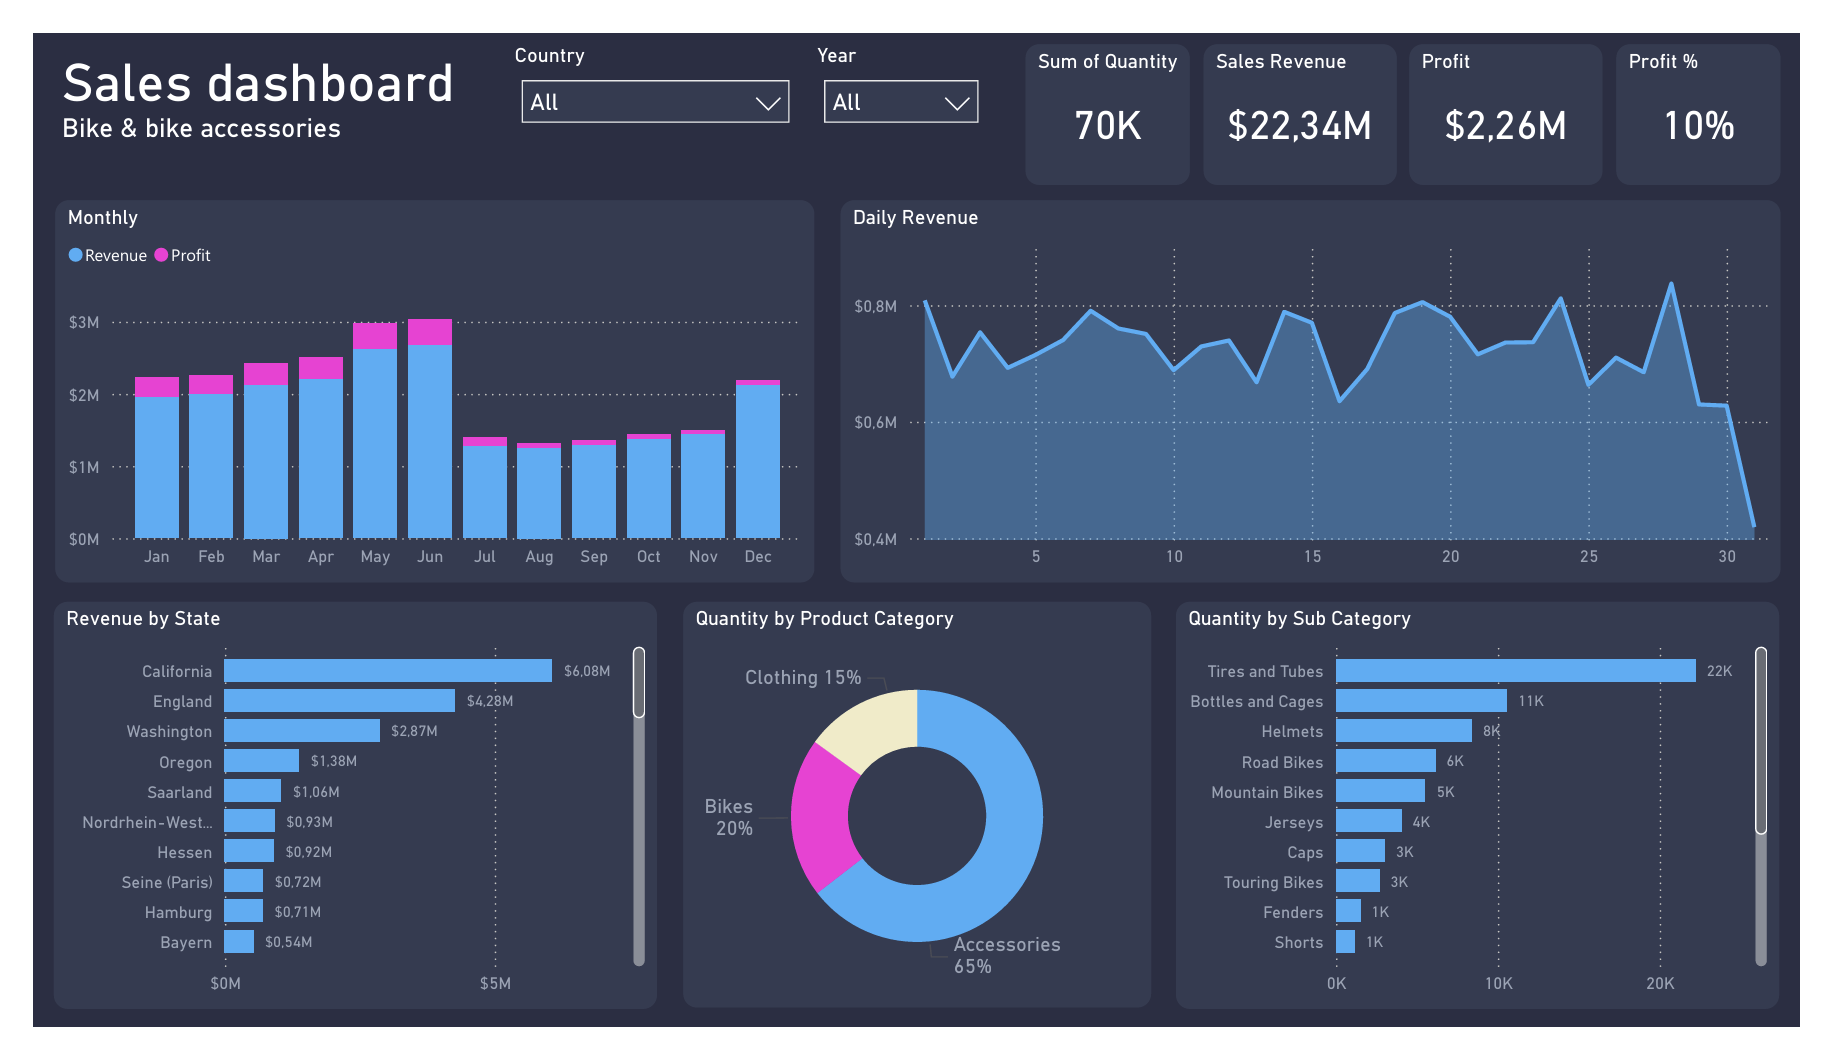

The page's visual inventory and layout, read from the dashboard file:
{"tool":"powerbi","page":{"name":"Page 1","canvas":[1280,720],"ordinal":0},"visuals":[{"type":"slicer","title":"Country","fields":{"Values":["SalesForCourse_quizz_table.Country"]},"box":[343.6,8,214.7,101.8],"z":0},{"type":"card","title":"Sales Revenue","fields":{"Values":["Sum(SalesForCourse_quizz_table.Revenue)"]},"box":[847.8,8,140,101.8],"z":1000},{"type":"card","title":"Profit","fields":{"Values":["SalesForCourse_quizz_table.Profit"]},"box":[997.3,8,140,101.8],"z":2000},{"type":"card","title":"Profit %","fields":{"Values":["SalesForCourse_quizz_table.Profit %"]},"box":[1146.8,8,119.3,101.8],"z":3000},{"type":"columnChart","title":"Monthly","fields":{"Category":["SalesForCourse_quizz_table.Month"],"Y":["Sum(SalesForCourse_quizz_table.Revenue)","SalesForCourse_quizz_table.Profit"]},"box":[15.9,120.9,550.4,276.8],"z":4000},{"type":"donutChart","title":"Quantity by Product Category","fields":{"Category":["SalesForCourse_quizz_table.Product Category"],"Y":["Sum(SalesForCourse_quizz_table.Quantity)"]},"box":[470.8,412,338.8,294.3],"z":5000},{"type":"areaChart","title":"Daily Revenue","fields":{"Category":["SalesForCourse_quizz_table.Day"],"Y":["Sum(SalesForCourse_quizz_table.Revenue)"]},"box":[585.3,120.9,680.8,276.8],"z":6000},{"type":"clusteredBarChart","title":"Quantity by Sub Category","fields":{"Category":["SalesForCourse_quizz_table.Sub Category"],"Y":["Sum(SalesForCourse_quizz_table.Quantity)"]},"box":[828.3,411.7,436.7,295],"z":7000},{"type":"clusteredBarChart","title":"Revenue by State","fields":{"Y":["Sum(SalesForCourse_quizz_table.Revenue)"],"Category":["SalesForCourse_quizz_table.State"]},"box":[15,411.7,436.7,295],"z":8000},{"type":"card","title":"Sum of Quantity","fields":{"Values":["Sum(SalesForCourse_quizz_table.Quantity)"]},"box":[719,8,119.3,101.8],"z":9000},{"type":"textbox","box":[15.9,8,302.2,167],"z":10000},{"type":"slicer","title":"Year","fields":{"Values":["SalesForCourse_quizz_table.Year"]},"box":[563.1,8,132,101.8],"z":11000}]}

Visuals, with their boxes in screenshot pixels (x1, y1, x2, y2), scaled from the page's 1280x720 canvas onto the 1833x1061 screenshot:
"Country" slicer: select_region(492, 12, 800, 162)
"Sales Revenue" card: select_region(1214, 12, 1415, 162)
"Profit" card: select_region(1428, 12, 1629, 162)
"Profit %" card: select_region(1642, 12, 1813, 162)
"Monthly" columnChart: select_region(23, 178, 811, 586)
"Quantity by Product Category" donutChart: select_region(674, 607, 1159, 1041)
"Daily Revenue" areaChart: select_region(838, 178, 1813, 586)
"Quantity by Sub Category" clusteredBarChart: select_region(1186, 607, 1812, 1041)
"Revenue by State" clusteredBarChart: select_region(21, 607, 647, 1041)
"Sum of Quantity" card: select_region(1030, 12, 1200, 162)
textbox: select_region(23, 12, 456, 258)
"Year" slicer: select_region(806, 12, 995, 162)
